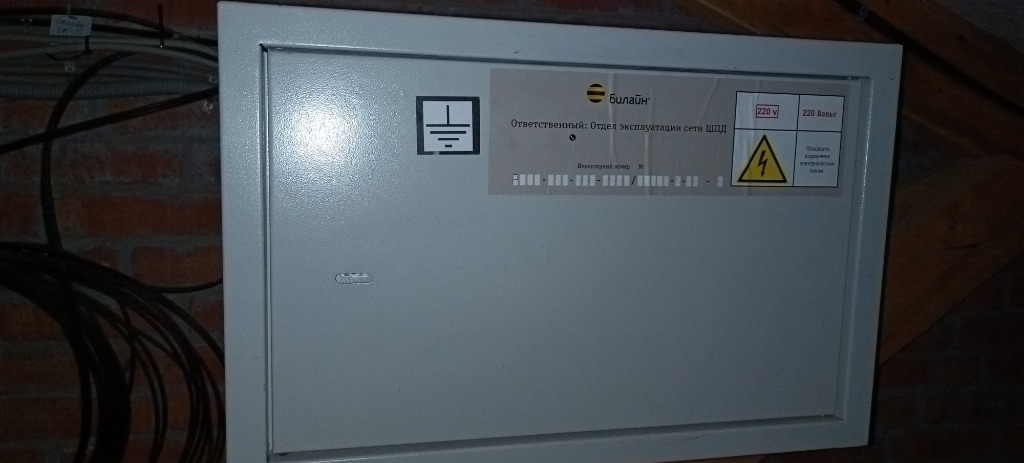shta-7m: (212, 1, 908, 455)
